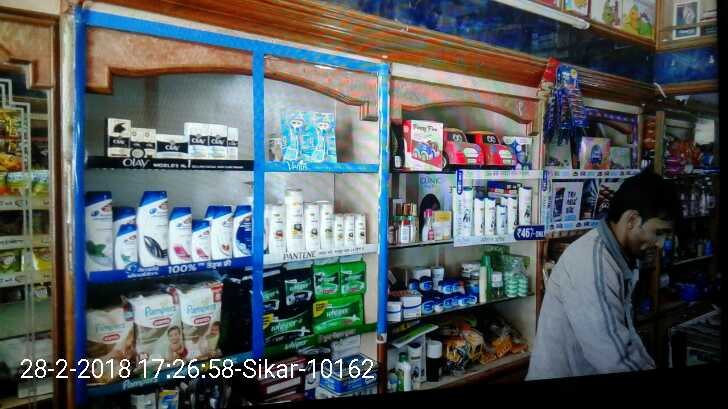gillete: (554, 67, 588, 128)
venus: (277, 111, 311, 161), (311, 112, 333, 161)
